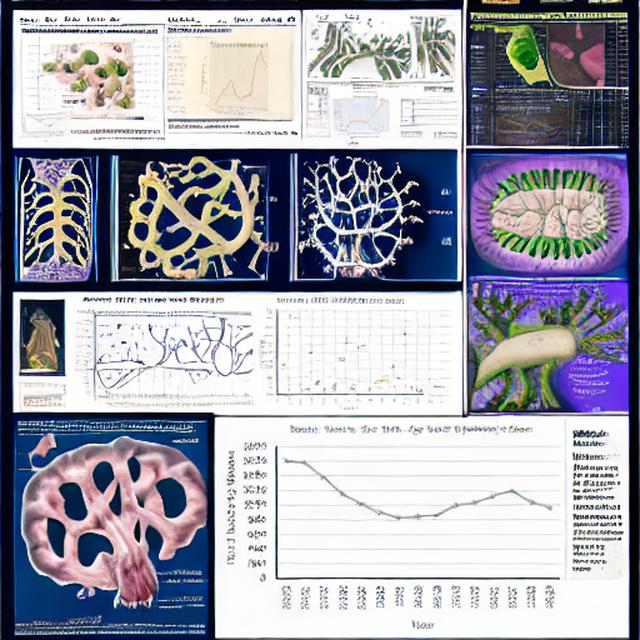Graph: (220, 418, 563, 636), (255, 296, 427, 414), (187, 39, 288, 115), (489, 103, 562, 146), (333, 91, 395, 138), (18, 113, 70, 144)
